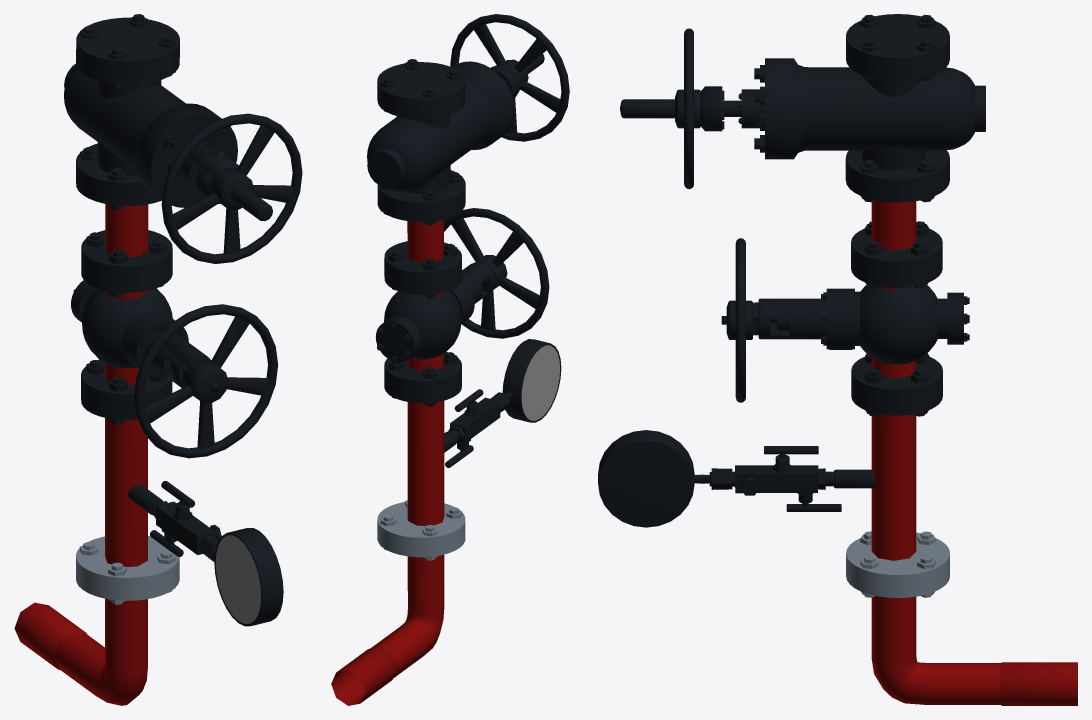
File: 排污管道单体_流动UV.fbx
3 renders of one model, left to right at view 1: azimuth 30°, elevation 25°; view 2: azimuth 150°, elevation 25°; view 3: azimuth 270°, elevation 25°, orthographic. The views are drawn at different scales.
Parts seen in each view (by area): view 1: L1_GLQFLQ_01_M10_13, 排污管道_红色, L1_GLQFLQ_01_M11_13, L1_GLQFLQ_01_FM4_13, L1_GLQFLQ_01_FM5_13, L1_GLQFLQ_01_M12_13_1, 法兰与连接件, L1_GLQFLQ_01_M12_13_0; view 2: L1_GLQFLQ_01_M10_13, 排污管道_红色, L1_GLQFLQ_01_M11_13, L1_GLQFLQ_01_FM5_13, L1_GLQFLQ_01_FM4_13, L1_GLQFLQ_01_M12_13_1, 法兰与连接件, L1_GLQFLQ_01_M12_13_0; view 3: L1_GLQFLQ_01_M10_13, L1_GLQFLQ_01_M11_13, 排污管道_红色, L1_GLQFLQ_01_M12_13_1, 法兰与连接件, L1_GLQFLQ_01_FM4_13, L1_GLQFLQ_01_FM5_13.
Boxes of the visible parts, x1,y1,x2,y2 form: L1_GLQFLQ_01_M10_13: (64, 14, 238, 209); 排污管道_红色: (14, 204, 148, 705); L1_GLQFLQ_01_M11_13: (71, 230, 211, 424); L1_GLQFLQ_01_FM4_13: (161, 113, 302, 263); L1_GLQFLQ_01_FM5_13: (134, 304, 277, 458); L1_GLQFLQ_01_M12_13_1: (128, 481, 283, 626); 法兰与连接件: (76, 536, 179, 604); L1_GLQFLQ_01_M12_13_0: (215, 535, 261, 623); L1_GLQFLQ_01_M10_13: (367, 59, 519, 225); 排污管道_红色: (331, 219, 444, 705); L1_GLQFLQ_01_M11_13: (375, 241, 495, 406); L1_GLQFLQ_01_FM5_13: (444, 208, 549, 338); L1_GLQFLQ_01_FM4_13: (450, 14, 569, 141); L1_GLQFLQ_01_M12_13_1: (444, 339, 561, 467); 法兰与连接件: (377, 500, 465, 560); L1_GLQFLQ_01_M12_13_0: (521, 345, 559, 420); L1_GLQFLQ_01_M10_13: (700, 14, 985, 202); L1_GLQFLQ_01_M11_13: (752, 221, 969, 416); 排污管道_红色: (871, 200, 1077, 705); L1_GLQFLQ_01_M12_13_1: (598, 430, 875, 527); 法兰与连接件: (846, 531, 949, 597); L1_GLQFLQ_01_FM4_13: (620, 28, 700, 189); L1_GLQFLQ_01_FM5_13: (721, 238, 752, 402).
Size of the model in its own units: 0.078 by 0.353 by 0.2265.
